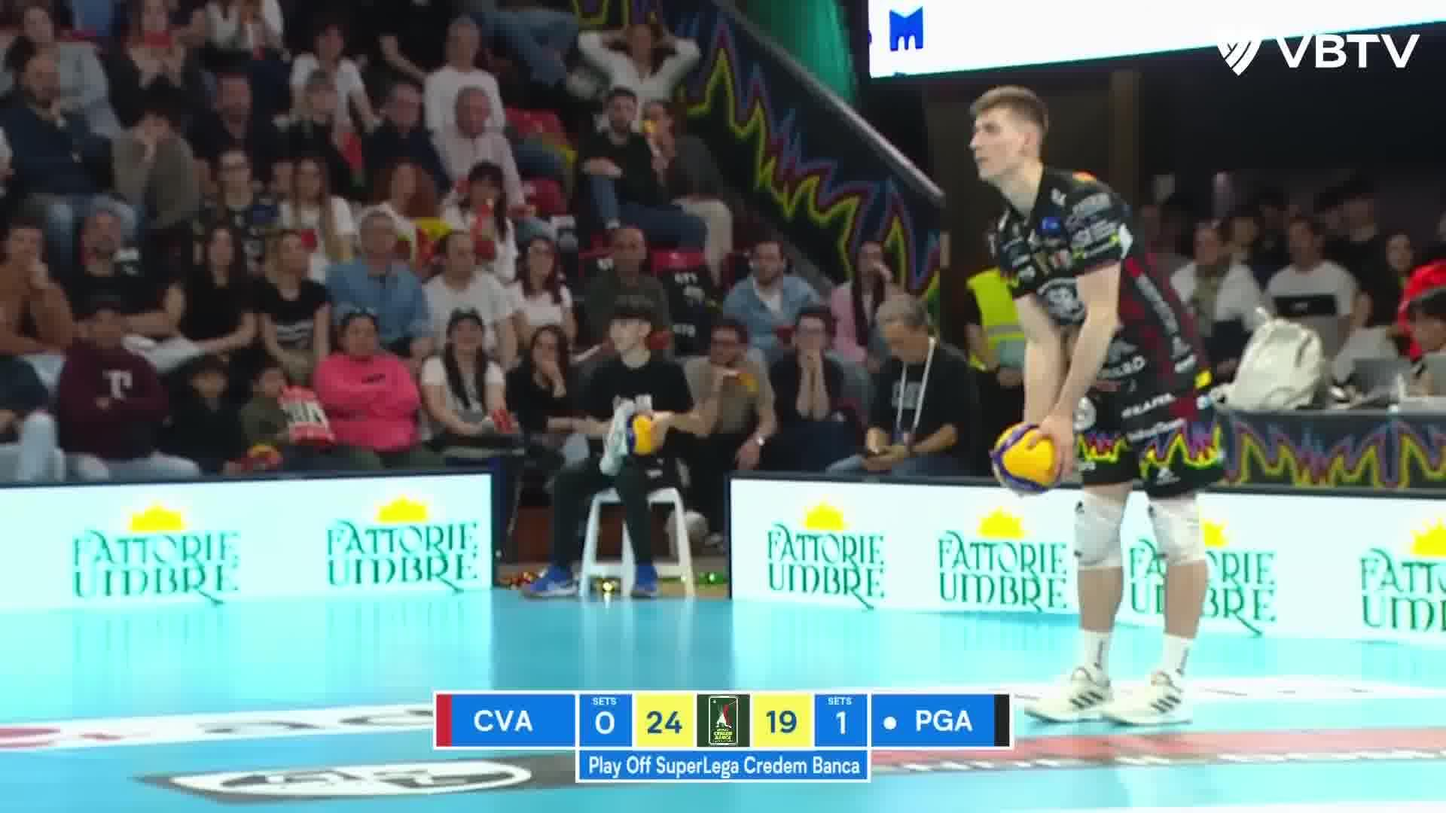balls: (991, 419, 1064, 497)
